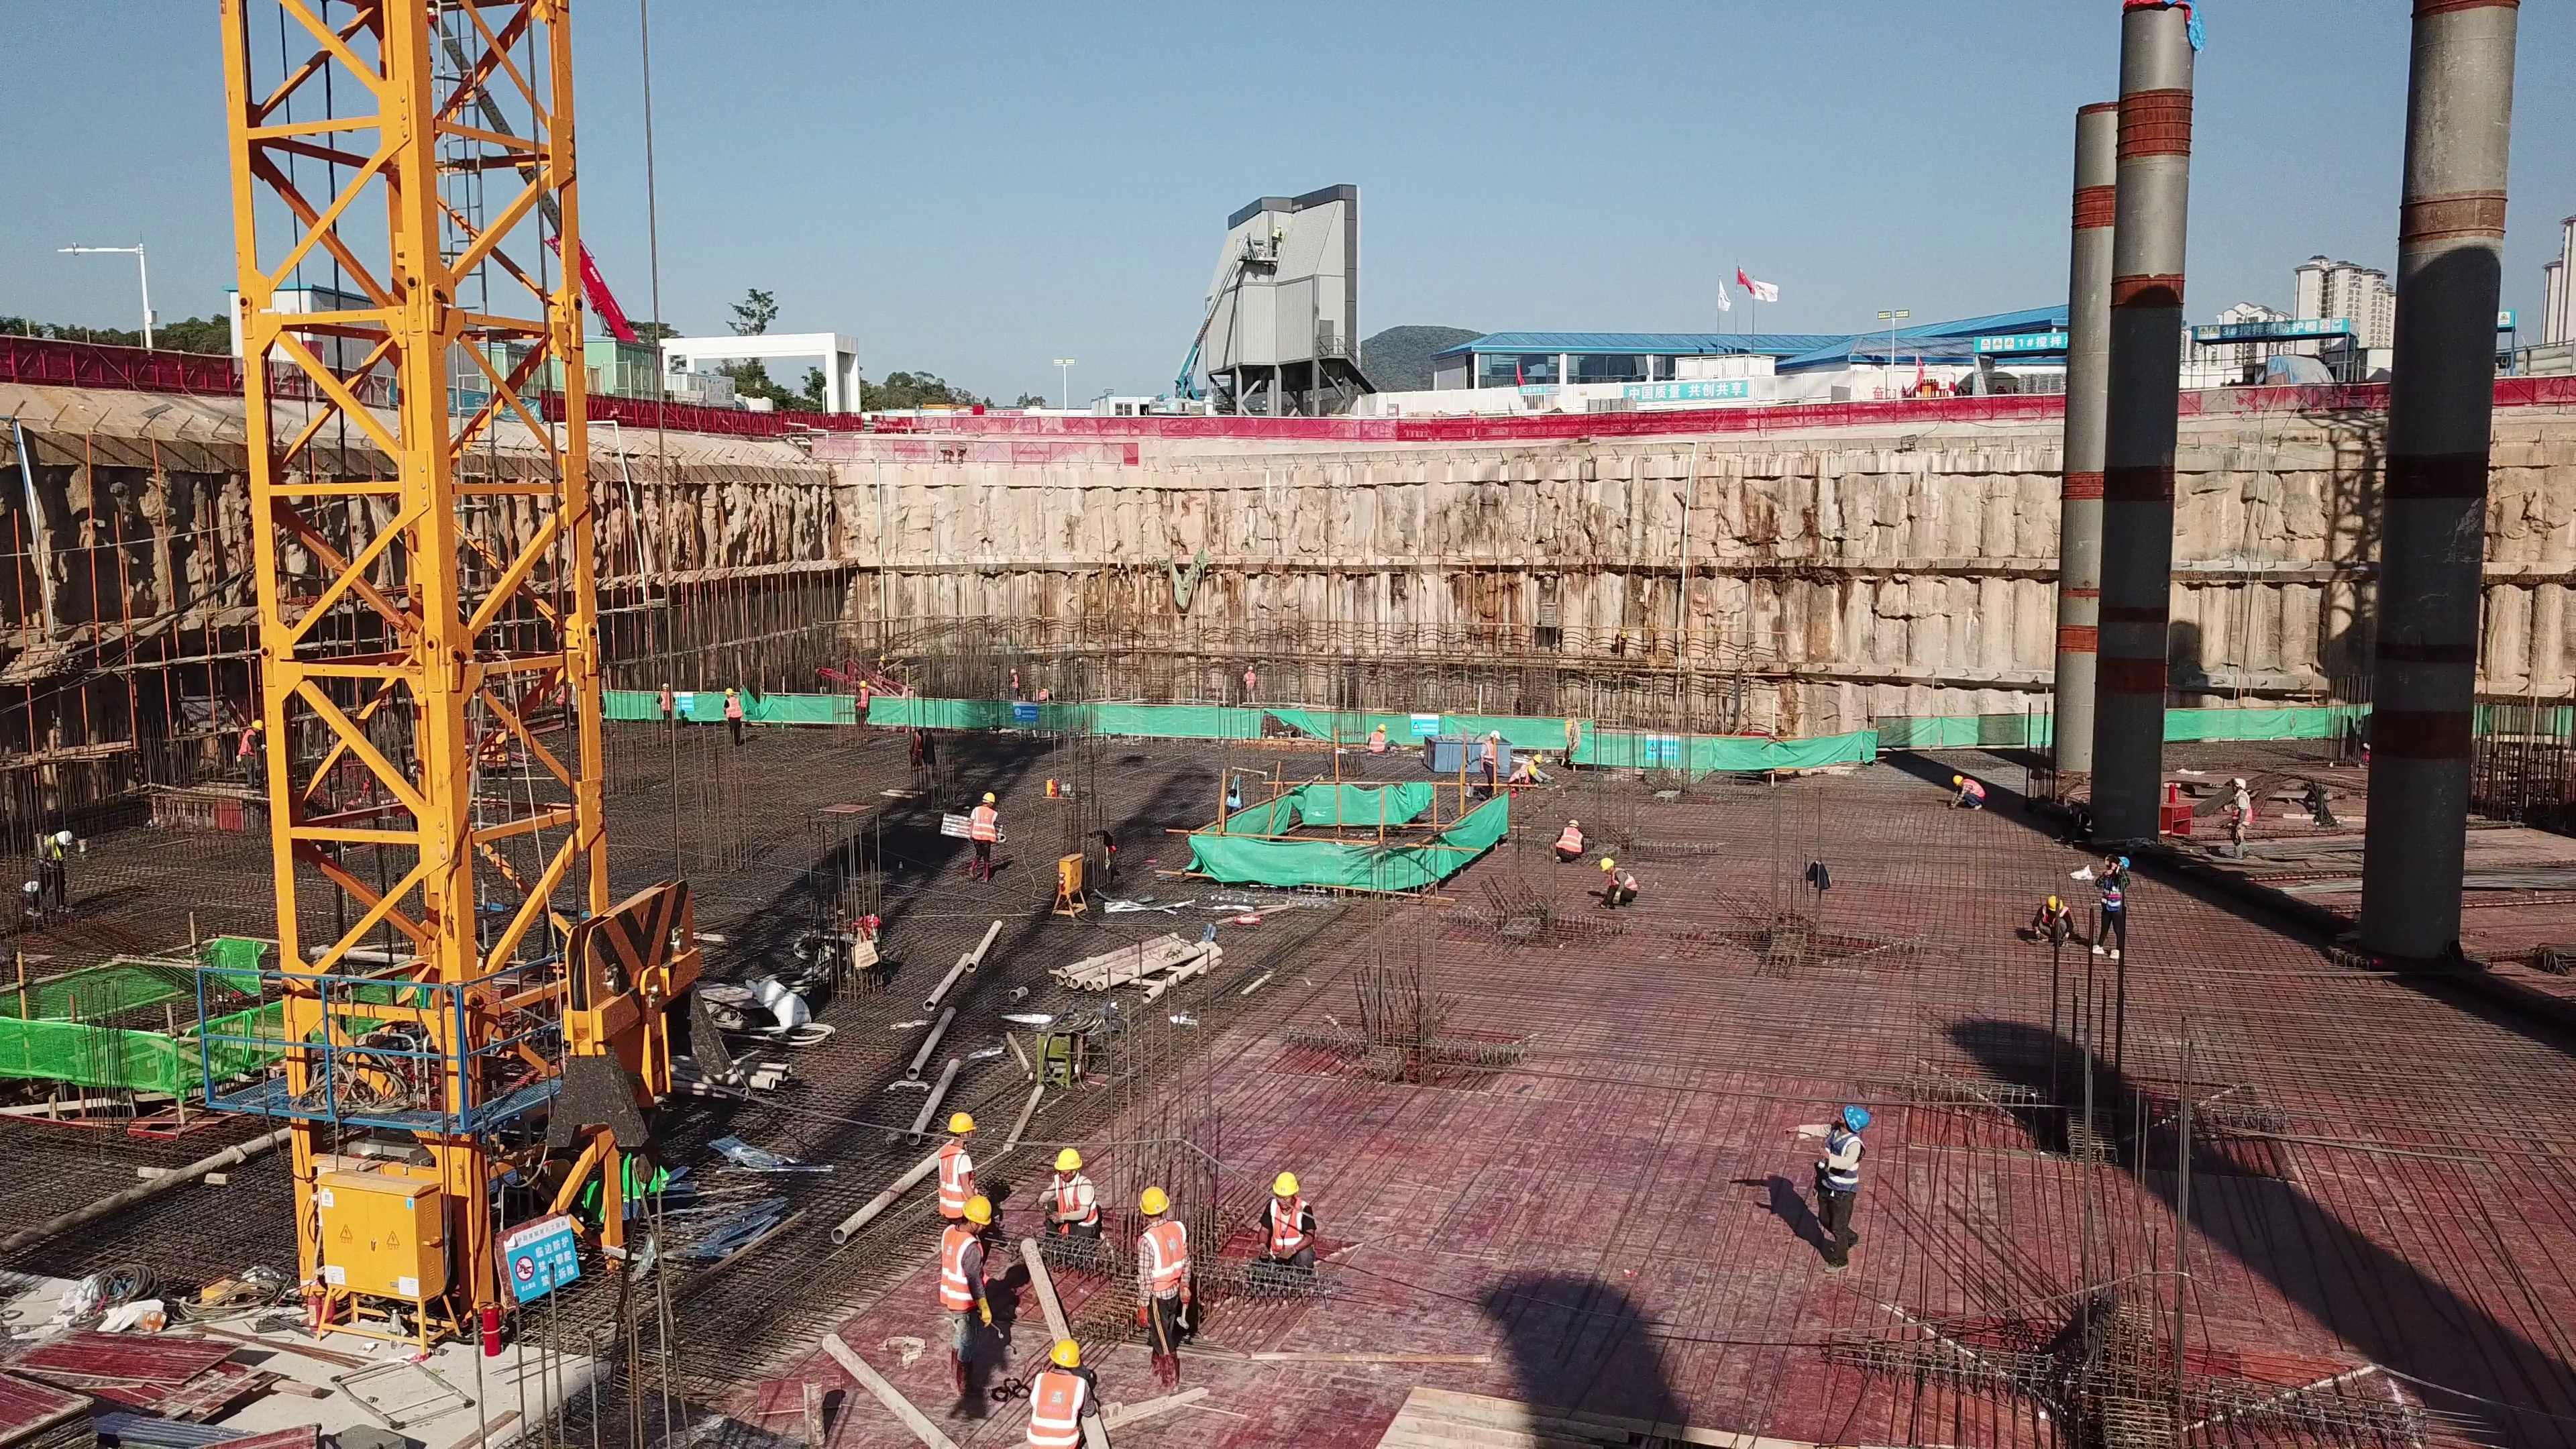board: (32, 1313, 281, 1449)
brick: (1586, 394, 1635, 415)
ebox: (307, 1157, 450, 1364), (1053, 852, 1087, 918)
fence: (1118, 414, 1477, 458), (17, 331, 225, 405)
helmet: (1136, 1187, 1185, 1215), (943, 1113, 978, 1142), (960, 1195, 996, 1226), (1843, 1104, 1876, 1136), (1053, 1336, 1087, 1366), (1268, 1167, 1305, 1197), (1047, 1150, 1083, 1165), (2113, 854, 2133, 871), (981, 790, 1000, 808), (2045, 894, 2062, 911), (52, 833, 73, 844), (1533, 753, 1546, 766), (250, 716, 264, 731), (1597, 857, 1611, 869), (1564, 817, 1581, 826), (1527, 766, 1540, 777), (722, 688, 735, 698), (1951, 775, 1962, 786), (1489, 729, 1501, 737), (660, 682, 672, 690), (1377, 724, 1387, 734), (1245, 663, 1256, 672), (857, 680, 868, 687), (1011, 666, 1016, 675)
hook: (548, 875, 711, 1188)
hopper: (1428, 729, 1522, 780)
person: (1115, 1174, 1216, 1393), (1798, 1099, 1882, 1287), (943, 1194, 1004, 1440), (1240, 1167, 1336, 1288), (1017, 1336, 1120, 1448), (2088, 851, 2151, 985), (1038, 1145, 1106, 1257), (922, 1104, 991, 1197), (30, 824, 83, 929), (226, 702, 277, 795), (2217, 771, 2266, 859), (1938, 761, 2005, 818), (965, 789, 1005, 883), (2032, 897, 2086, 962), (1588, 855, 1653, 908), (715, 678, 758, 747), (1537, 820, 1597, 866), (1479, 727, 1509, 800), (546, 672, 578, 719), (1362, 721, 1401, 759), (653, 678, 677, 731), (851, 678, 874, 734), (1240, 663, 1265, 708), (1001, 664, 1022, 702), (1507, 766, 1536, 794), (1030, 683, 1056, 707), (876, 653, 890, 689)
slogan: (2192, 321, 2348, 337), (1975, 333, 2081, 350), (1623, 382, 1741, 398)
vest: (1026, 1366, 1098, 1442), (1136, 1223, 1189, 1302), (939, 1230, 981, 1304), (1267, 1198, 1315, 1261), (1822, 1131, 1862, 1207), (1054, 1173, 1098, 1236), (933, 1150, 964, 1223), (971, 806, 1000, 847), (2102, 871, 2127, 914), (1556, 826, 1584, 861), (1615, 867, 1642, 903), (2231, 793, 2251, 828), (1962, 776, 1988, 802), (40, 845, 64, 867), (2040, 912, 2069, 930), (726, 698, 744, 724), (1480, 743, 1499, 768), (238, 731, 258, 755), (557, 688, 578, 707), (1369, 731, 1386, 751), (857, 690, 869, 714), (1509, 768, 1527, 784), (659, 692, 674, 711), (1244, 673, 1256, 692), (1011, 676, 1020, 688)
